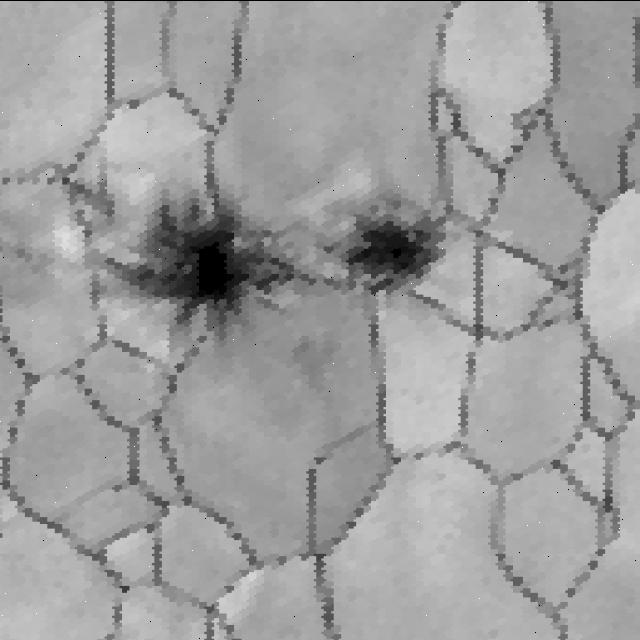good_void: (97, 177, 312, 345), (309, 190, 460, 314), (54, 167, 120, 242)
